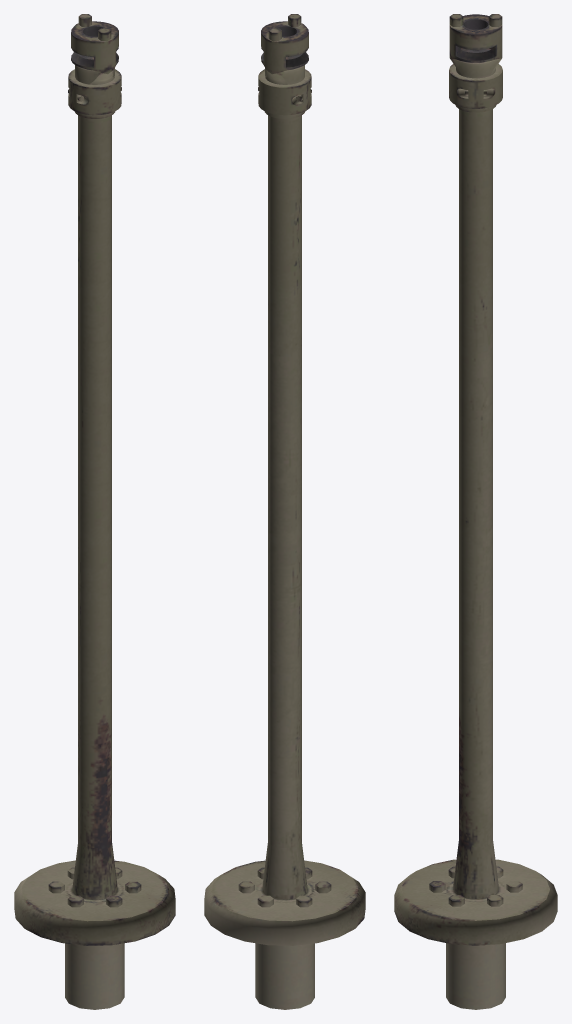
The model's file is Gun_01.glb.
The picture shows the model from 3 angles, left to right: view 1: azimuth 30°, elevation 25°; view 2: azimuth 150°, elevation 25°; view 3: azimuth 270°, elevation 25°; orthographic projection.
Parts seen in each view (by area): view 1: set_0_group_0; view 2: set_0_group_0; view 3: set_0_group_0.
Part boxes in pixels (left/top/right/bottom): set_0_group_0: left=14, top=14, right=175, bottom=1009; set_0_group_0: left=204, top=14, right=365, bottom=1009; set_0_group_0: left=394, top=14, right=557, bottom=1009.
Size of the model in its own units: 0.7 by 4.63 by 0.7.
Materials: 1 (1 with a texture image).
